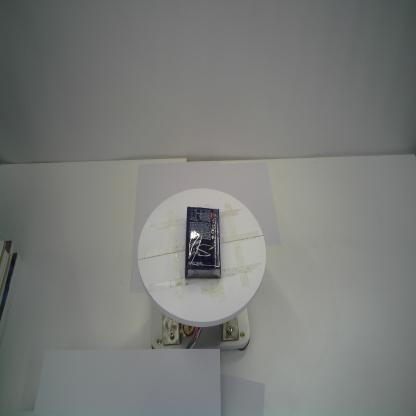Gum: (184, 206, 221, 279)
